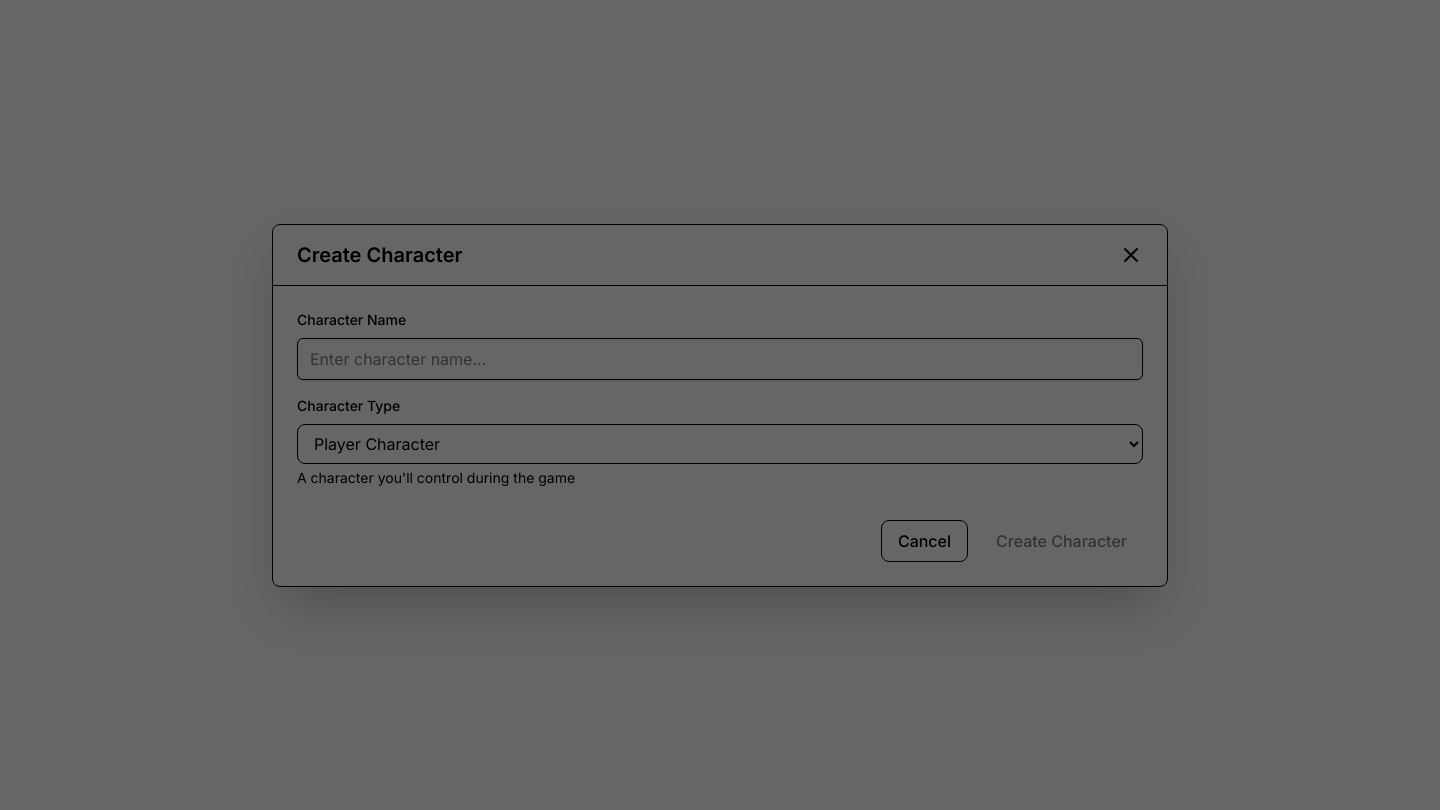
CreateCharacterModal › Modal Close/Cancel › resets form when modal is closed
The width and height of the screenshot is (1440, 810).
// Enter some data
In the field labelled "Character Name": (720, 358) [297,338,1143,380], type "Test Character"
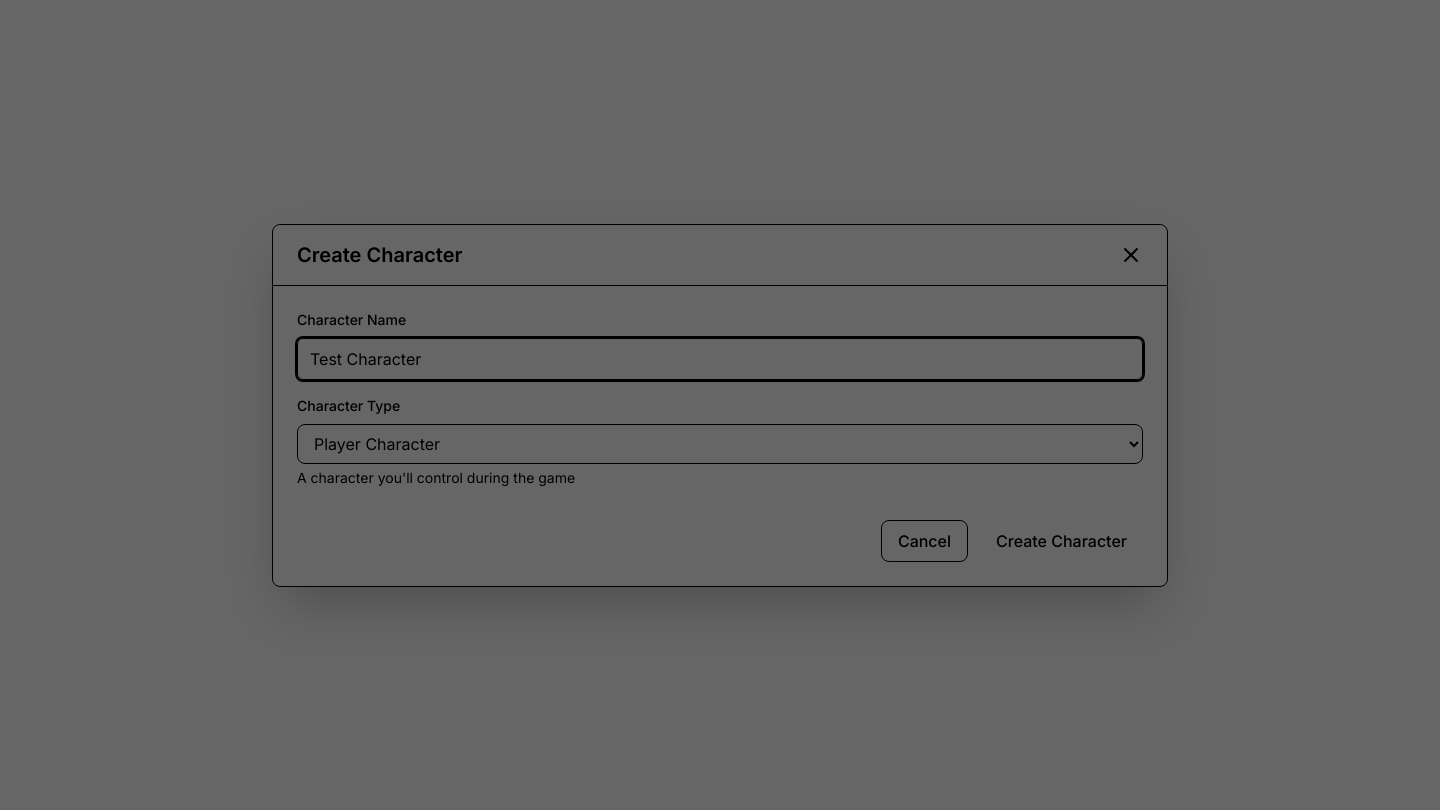
// Close modal
Click the button "Cancel": (924, 540) [881,520,968,562]
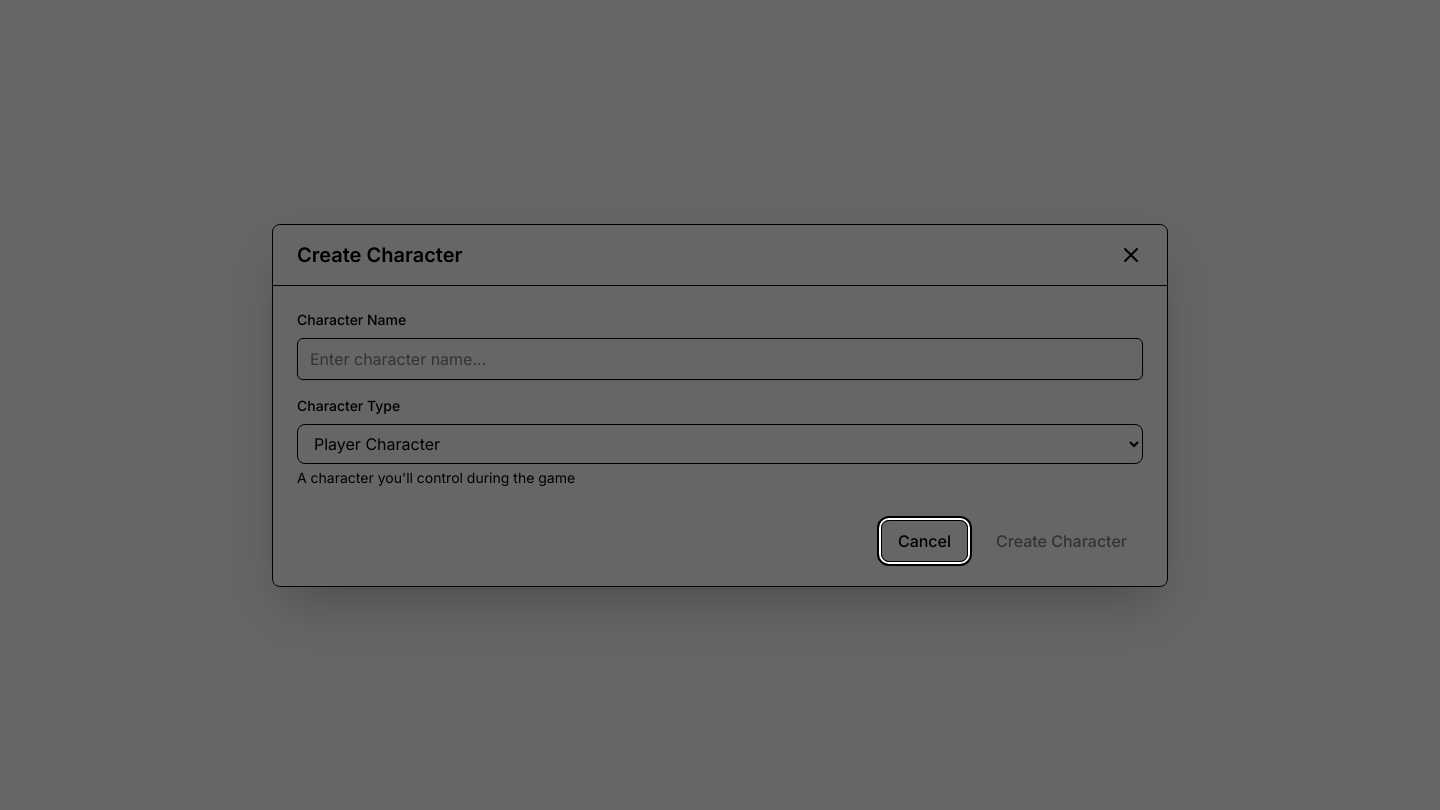
Result: the field labelled "Character Name" is empty at [297,338,1143,380]
